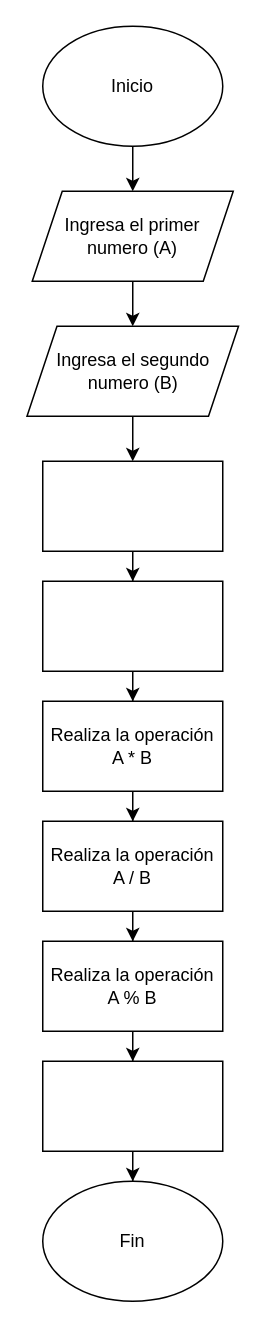
This 264x1328 diagram has some shape labels left out. The shapes that lost their labels are listed below. From the top down, each one's centre as x and y in pixels, then its label:
point (132, 505): Realiza la operación A + B
point (132, 625): Realiza la operación A - B
point (132, 1105): Mostrar los resultados de suma, resta, multiplicación, división y modulo.
